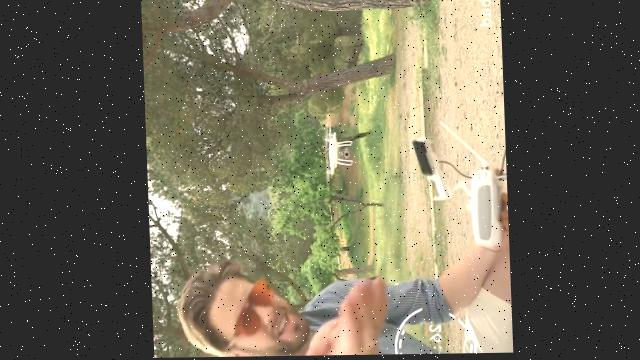drone: (319, 123, 352, 185)
